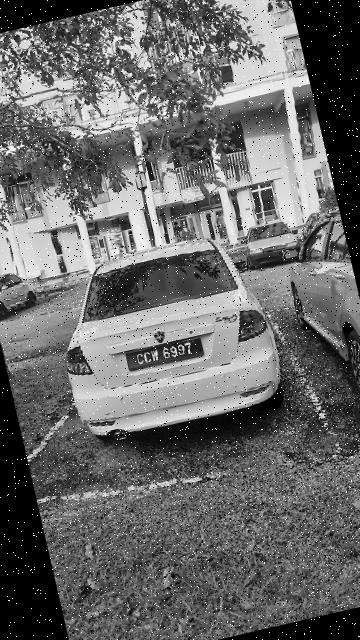License_Plate: (121, 333, 211, 380)
car: (38, 222, 300, 459), (274, 204, 360, 417), (231, 211, 307, 277), (1, 265, 47, 327)
